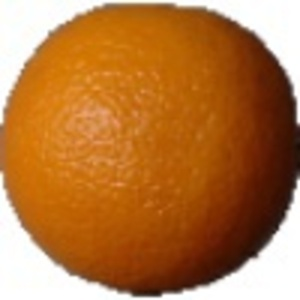laranja: (4, 4, 296, 297)
